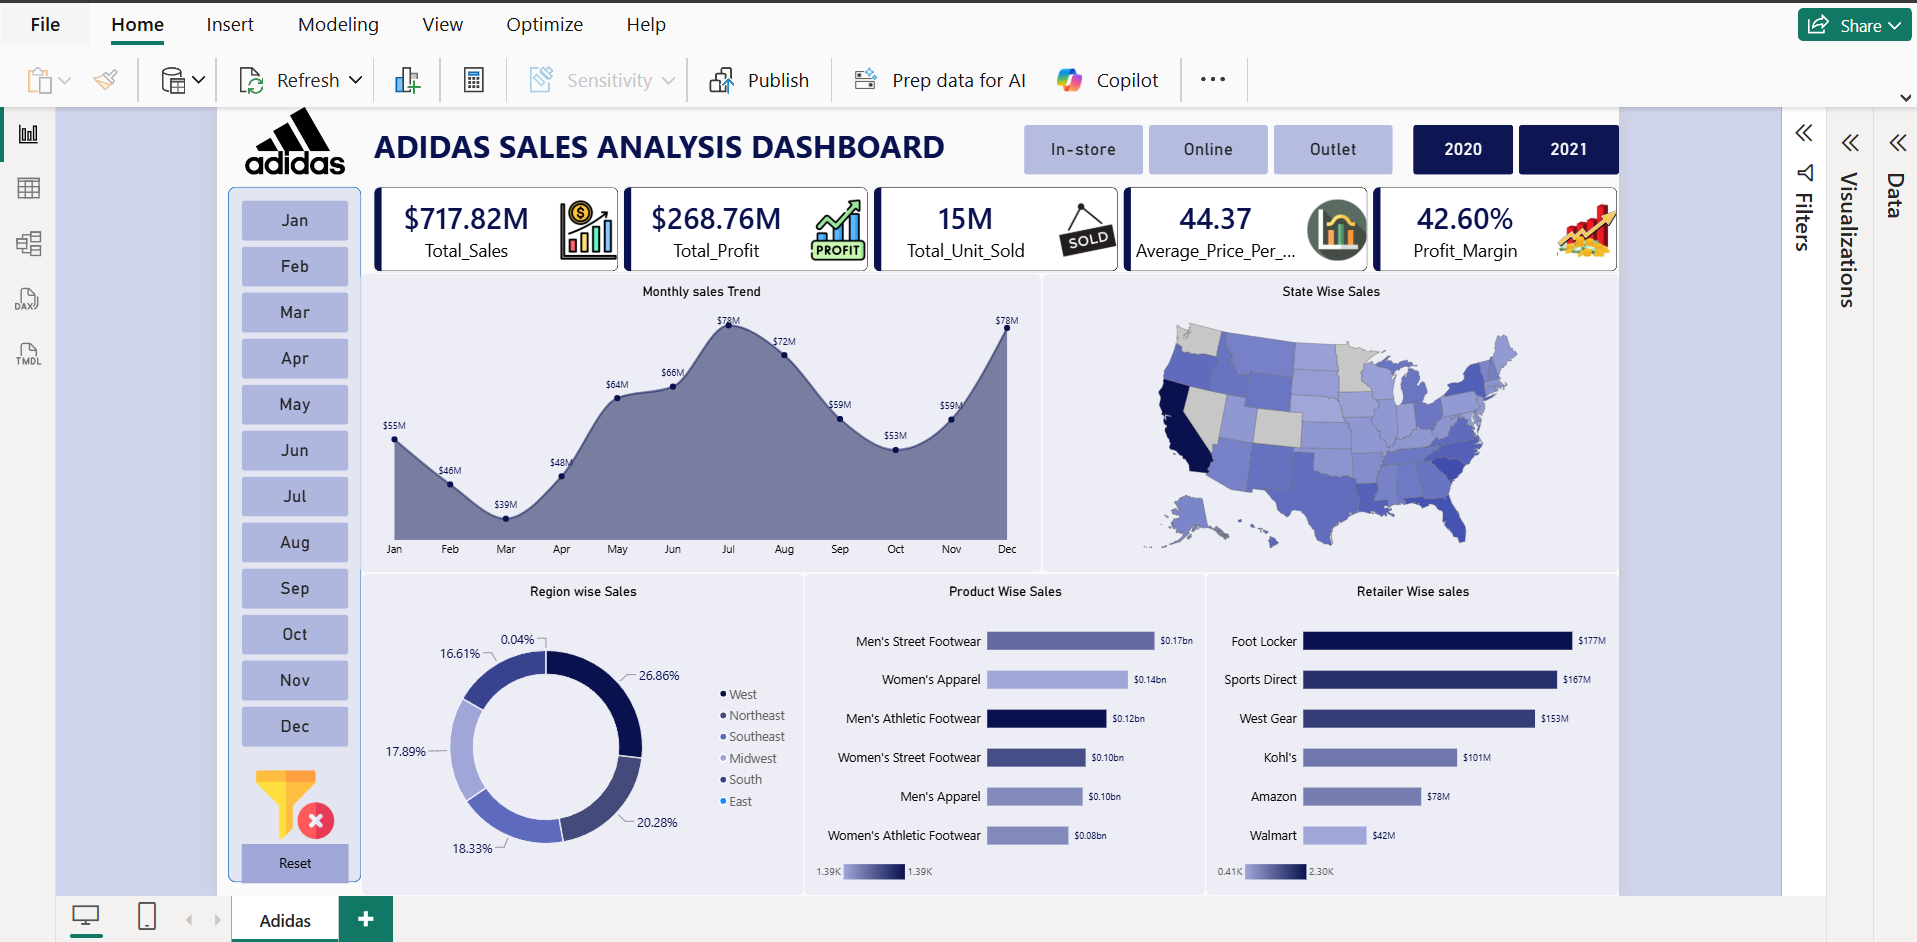

This screenshot's page, from the dashboard's own definition file:
{"tool":"powerbi","page":{"name":"Adidas","canvas":[1920,1080],"ordinal":0},"visuals":[{"type":"cardVisual","fields":{"Data":["Data Sales Adidas.Total_Sales","Data Sales Adidas.Total_Profit","Data Sales Adidas.Total_Unit_Sold","Data Sales Adidas.Average_Price_Per_Unit","Data Sales Adidas.Profit_Margin"]},"box":[214.5,109.3,1706,117.6],"z":0},{"type":"image","box":[0,0,214,92],"z":1000},{"type":"textbox","box":[214.5,24.8,823.1,68.1],"z":2000},{"type":"shape","box":[15,110,182.5,952.5],"z":3000},{"type":"areaChart","title":"Monthly sales Trend","fields":{"Category":["Data Sales Adidas.Month"],"Y":["Data Sales Adidas.Total_Sales"]},"box":[195.8,227.9,934,410.5],"z":4000},{"type":"shapeMap","title":"State Wise Sales","fields":{"Category":["Data Sales Adidas.State"],"Value":["Data Sales Adidas.Total_Sales"]},"box":[1129.8,227.9,790.9,410.5],"z":5000},{"type":"donutChart","title":"Region wise Sales","fields":{"Category":["Data Sales Adidas.Region"],"Y":["Data Sales Adidas.Total_Sales"]},"box":[197.7,638.4,606.3,442.5],"z":6000},{"type":"clusteredBarChart","title":"Product Wise Sales","fields":{"Category":["Data Sales Adidas.Product"],"Y":["Data Sales Adidas.Total_Sales"]},"box":[804.1,638.4,549.9,442.5],"z":7000},{"type":"clusteredBarChart","title":"Retailer Wise sales","fields":{"Category":["Data Sales Adidas.Retailer"],"Y":["Data Sales Adidas.Total_Sales"]},"box":[1353.9,638.4,566.8,442.5],"z":8000},{"type":"advancedSlicerVisual","fields":{"Values":["Data Sales Adidas.Sales Method"]},"box":[1105.7,24.8,505.4,68.1],"z":9000},{"type":"advancedSlicerVisual","fields":{"Values":["Data Sales Adidas.Invoice Date.Variation.Date Hierarchy.Year"]},"box":[1638,24.8,282.6,68.1],"z":10000},{"type":"advancedSlicerVisual","fields":{"Values":["Data Sales Adidas.Month"]},"box":[33,127.9,146.5,759.2],"z":11000},{"type":"image","box":[33,901.5,146.5,107.3],"z":12000},{"type":"actionButton","box":[33,1008.8,146.5,53.6],"z":13000}]}

Visuals, with their boxes on the page's 1920x1080 design canvas (x1, y1, x2, y2). These are canvas units, not pixel positions in the 1917x942 screenshot, which may show the page scaled, cropped or inside an application window:
cardVisual - Data Sales Adidas.Total_Sales x Data Sales Adidas.Total_Profit: box(214, 109, 1920, 227)
image: box(0, 0, 214, 92)
textbox: box(214, 25, 1038, 93)
shape: box(15, 110, 198, 1062)
"Monthly sales Trend" areaChart: box(196, 228, 1130, 638)
"State Wise Sales" shapeMap: box(1130, 228, 1921, 638)
"Region wise Sales" donutChart: box(198, 638, 804, 1081)
"Product Wise Sales" clusteredBarChart: box(804, 638, 1354, 1081)
"Retailer Wise sales" clusteredBarChart: box(1354, 638, 1921, 1081)
advancedSlicerVisual - Data Sales Adidas.Sales Method: box(1106, 25, 1611, 93)
advancedSlicerVisual - Data Sales Adidas.Invoice Date.Variation.Date Hierarchy.Year: box(1638, 25, 1921, 93)
advancedSlicerVisual - Data Sales Adidas.Month: box(33, 128, 180, 887)
image: box(33, 902, 180, 1009)
actionButton: box(33, 1009, 180, 1062)
